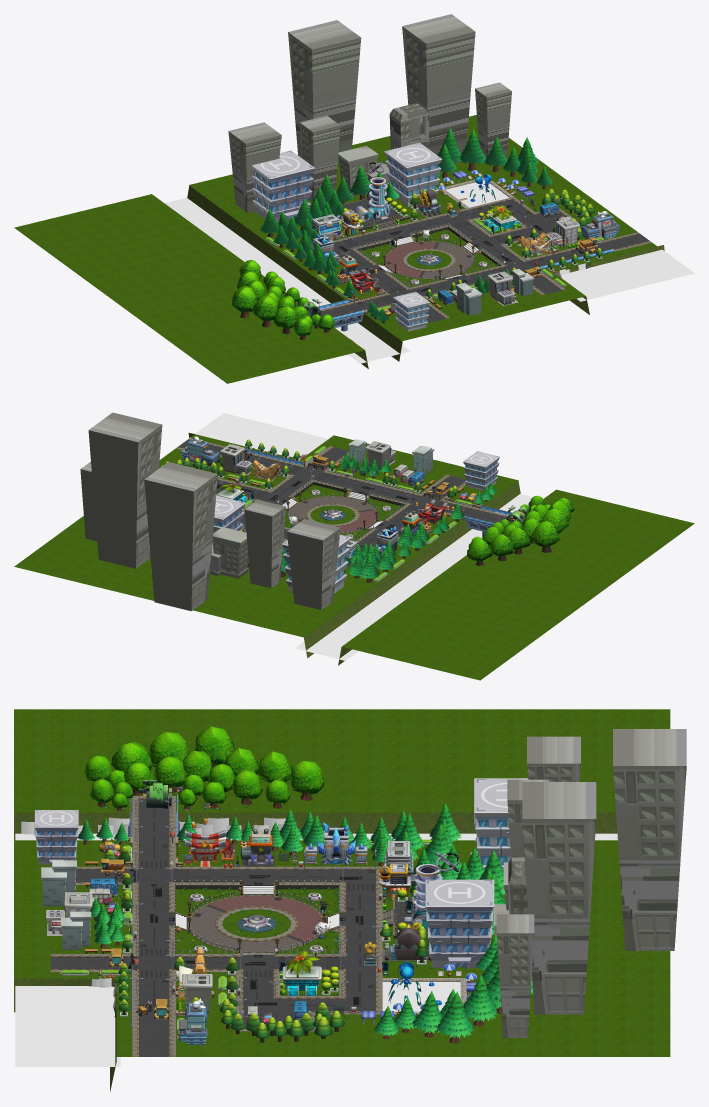
The model's file is 01_01_Trung_Tam_Chu_Thanh.glb.
3 views of the same model, one above another, from view 1: azimuth 30°, elevation 25°; view 2: azimuth 150°, elevation 25°; view 3: azimuth 270°, elevation 25° (orthographic). The views are drawn at different scales.
Visible parts, largest first — view 1: 01_01_Trung_Tam_Chu_Thanh; view 2: 01_01_Trung_Tam_Chu_Thanh; view 3: 01_01_Trung_Tam_Chu_Thanh.
Boxes of the visible parts, x1,y1,x2,y2 form: 01_01_Trung_Tam_Chu_Thanh: (14, 14, 694, 383); 01_01_Trung_Tam_Chu_Thanh: (14, 412, 694, 680); 01_01_Trung_Tam_Chu_Thanh: (14, 709, 686, 1091).
Size of the model in its own units: 204 by 62.3 by 166.
Materials: 73 (69 with a texture image).
